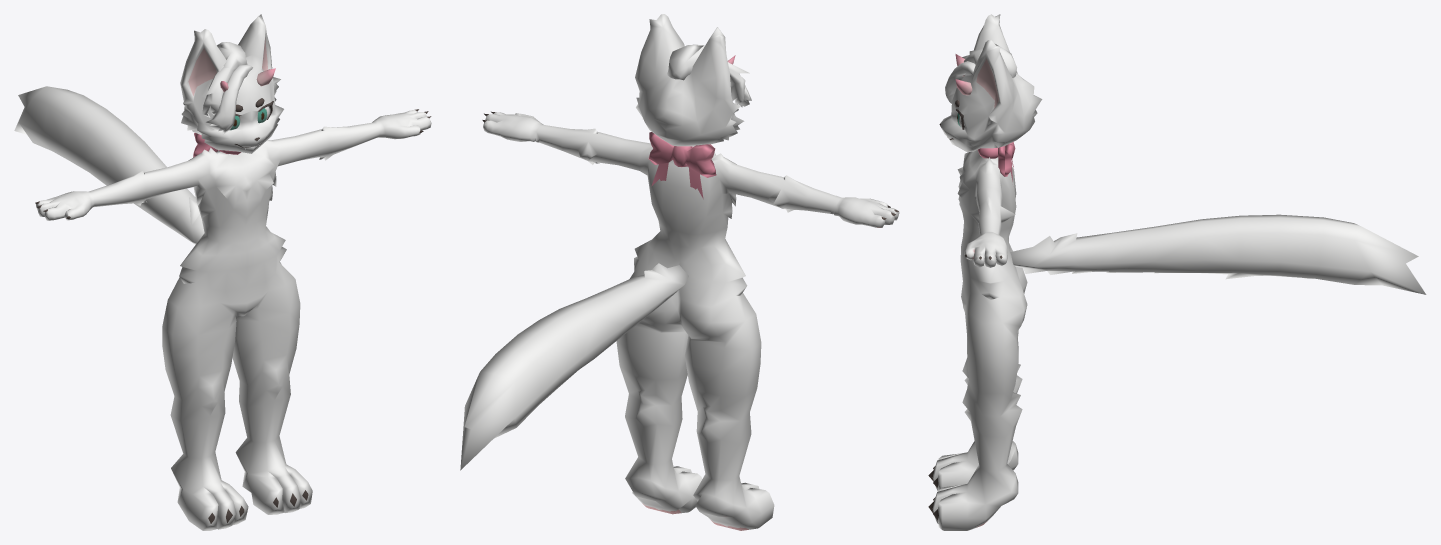
File: Aurora.obj
3 views of the same model, side by side, from view 1: azimuth 30°, elevation 25°; view 2: azimuth 150°, elevation 25°; view 3: azimuth 270°, elevation 25° (orthographic). The views are drawn at different scales.
Parts seen in each view (by area): view 1: model:geo Geometry Group model:Body, model:geo Geometry Group model:Tail, model:geo Geometry Group model:Head, model:Hair model:geo Geometry Group; view 2: model:geo Geometry Group model:Body, model:geo Geometry Group model:Tail, model:geo Geometry Group model:Head, model:geo Geometry Group model:Bow, model:Hair model:geo Geometry Group; view 3: model:geo Geometry Group model:Body, model:geo Geometry Group model:Tail, model:geo Geometry Group model:Head, model:Hair model:geo Geometry Group, model:geo Geometry Group model:Bow.
Boxes of the visible parts, box(x1,y1,x2,y2) form: model:geo Geometry Group model:Body: box(35, 109, 431, 530); model:geo Geometry Group model:Tail: box(14, 86, 204, 244); model:geo Geometry Group model:Head: box(180, 14, 283, 153); model:Hair model:geo Geometry Group: box(202, 42, 252, 134); model:geo Geometry Group model:Body: box(482, 111, 899, 530); model:geo Geometry Group model:Tail: box(460, 263, 688, 470); model:geo Geometry Group model:Head: box(635, 14, 744, 146); model:geo Geometry Group model:Bow: box(648, 132, 716, 199); model:Hair model:geo Geometry Group: box(667, 44, 751, 107); model:geo Geometry Group model:Body: box(928, 150, 1027, 530); model:geo Geometry Group model:Tail: box(1010, 214, 1426, 294); model:geo Geometry Group model:Head: box(939, 14, 1042, 152); model:Hair model:geo Geometry Group: box(945, 43, 1016, 103); model:geo Geometry Group model:Bow: box(978, 142, 1015, 181).
Size of the model in its own units: 21.8 by 25.39 by 23.99.
Materials: 2 (2 with a texture image).
